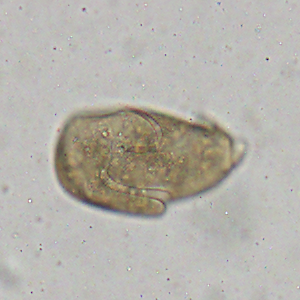Fasciola_hepatica_egg: (52, 105, 251, 218)
